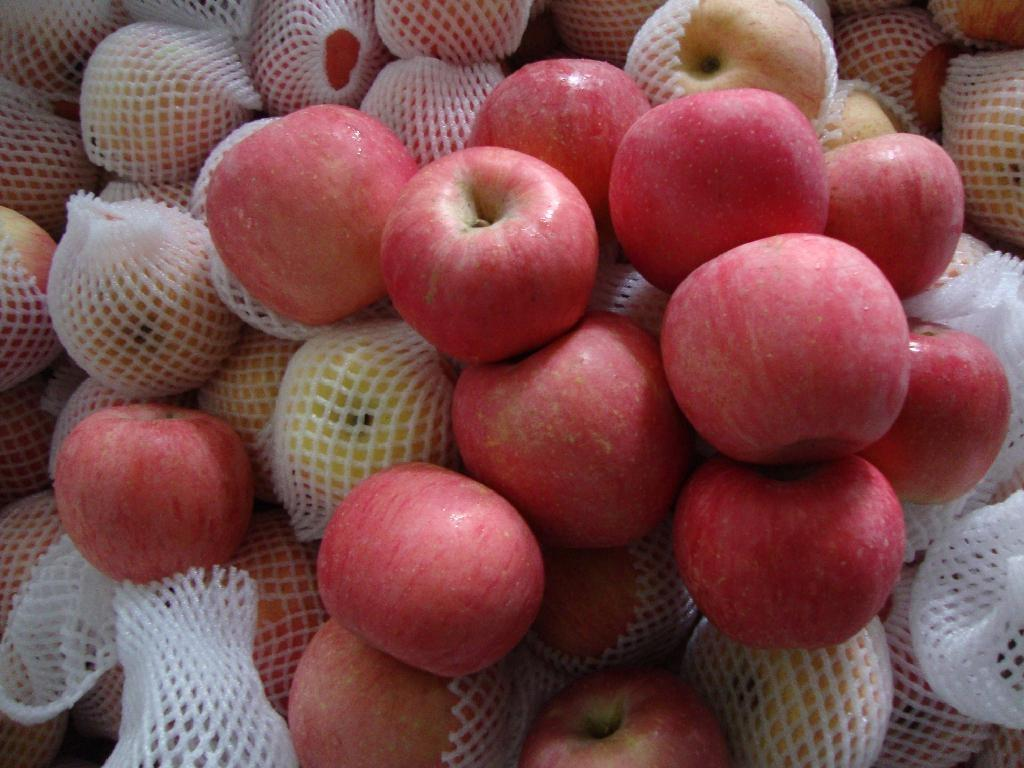apple: (655, 229, 911, 469), (445, 305, 683, 553), (314, 459, 544, 682), (202, 103, 418, 328), (379, 147, 595, 369), (669, 450, 903, 646), (606, 86, 830, 288), (50, 396, 253, 585), (287, 613, 522, 763), (467, 56, 655, 230), (626, 1, 838, 129), (820, 126, 965, 302), (518, 664, 736, 765)
